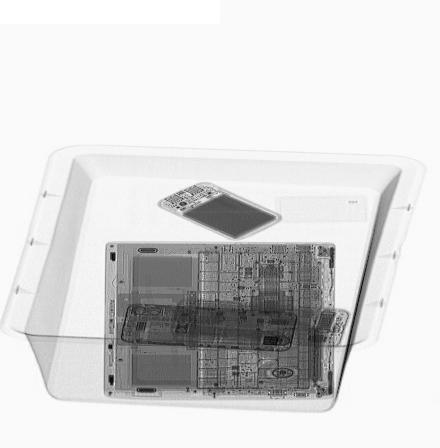Powerbank: (155, 180, 291, 245)
